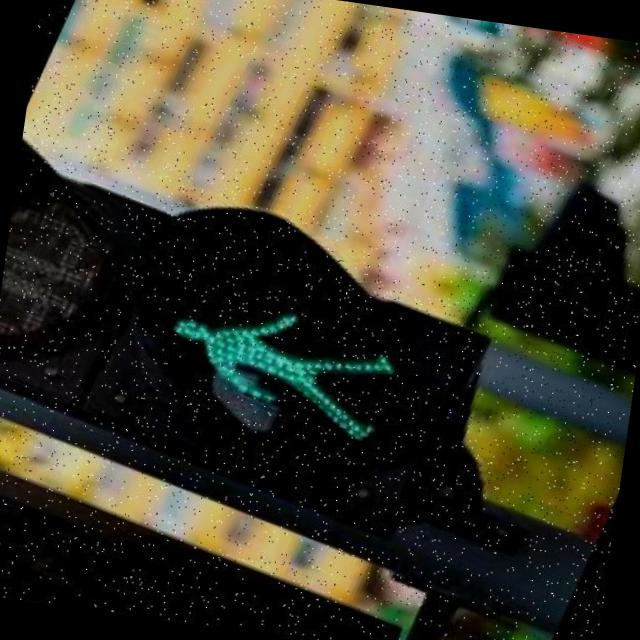green_light: (136, 257, 428, 460)
